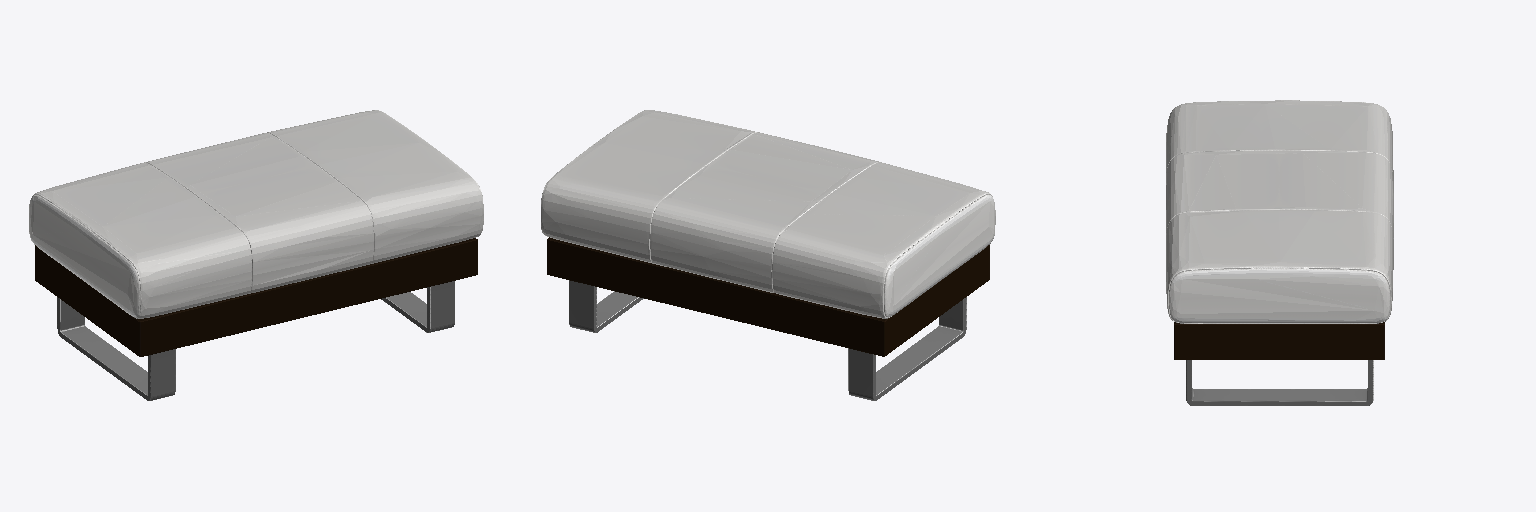
3 renders of one model, left to right at view 1: azimuth 30°, elevation 25°; view 2: azimuth 150°, elevation 25°; view 3: azimuth 270°, elevation 25°, orthographic.
Parts seen in each view (by area): view 1: solid_003, solid_002, solid_001; view 2: solid_003, solid_002, solid_001; view 3: solid_003, solid_002, solid_001.
Part boxes in pixels (bbox=[...]): solid_003: bbox=[29, 110, 483, 318]; solid_002: bbox=[35, 238, 477, 356]; solid_001: bbox=[57, 281, 454, 400]; solid_003: bbox=[541, 110, 995, 318]; solid_002: bbox=[547, 237, 989, 356]; solid_001: bbox=[569, 280, 966, 400]; solid_003: bbox=[1166, 100, 1393, 323]; solid_002: bbox=[1174, 322, 1384, 359]; solid_001: bbox=[1186, 360, 1373, 405].
Bounding box in the file's own units: 1.01 × 0.4224 × 0.5743.
1 materials, 1 textured.